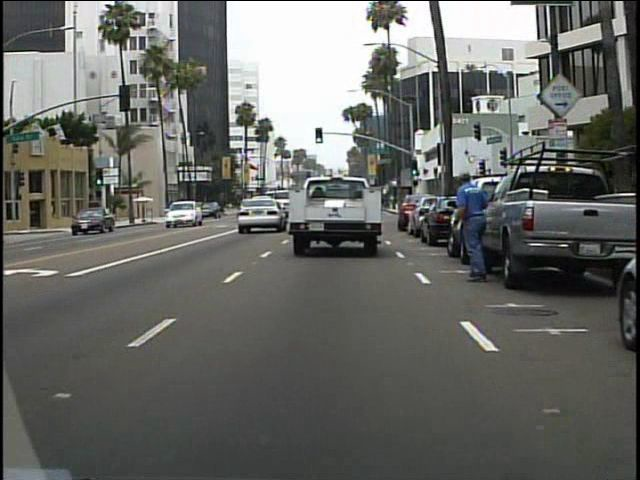person: (447, 169, 493, 283)
